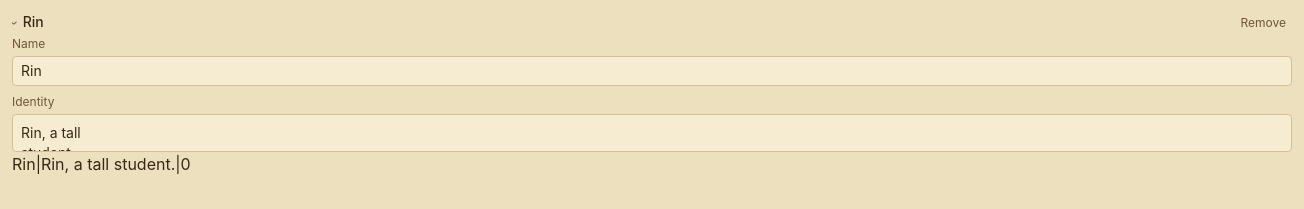
Test: LookSubject › edits the name and identity, headed by the name
Replace the text in the field labelled "Name" with "Kai" at (652, 71), box [12, 56, 1292, 86]
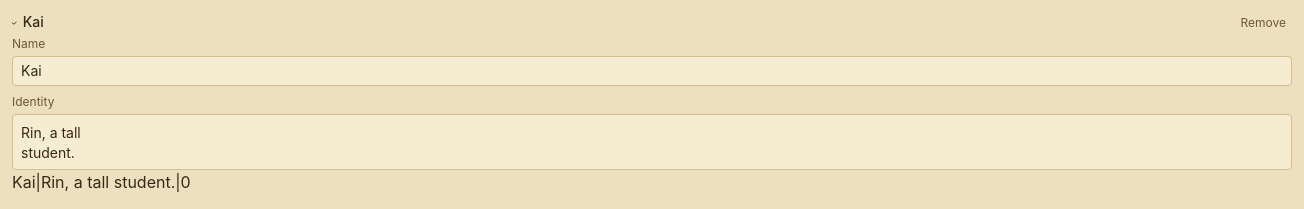
Replace the text in the text box labelled "Identity" with "Kai, a short student." at (652, 142), box [12, 114, 1292, 170]
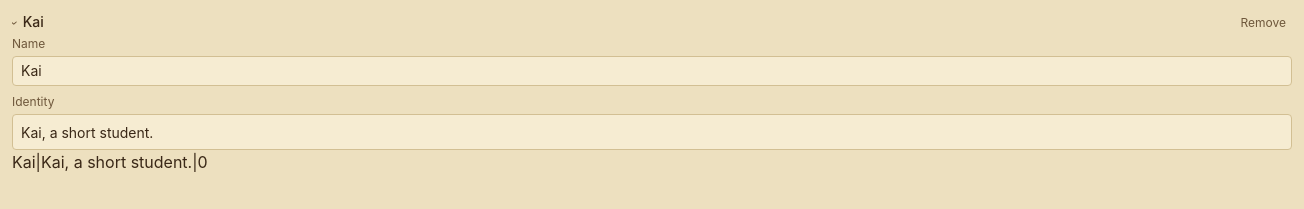
Result: the heading "› Kai Remove" is shown at [12, 12, 1292, 32]
Result: the text "Kai|Kai, a short student.|0" is shown at [12, 152, 208, 172]
Click the button with aria-label "Remove Kai" at (1263, 23), box [1234, 15, 1292, 31]
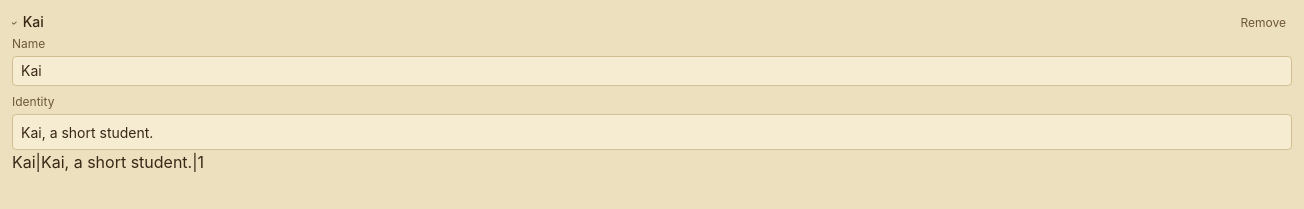
Result: the text "Kai|Kai, a short student.|1" is shown at [12, 152, 204, 172]
